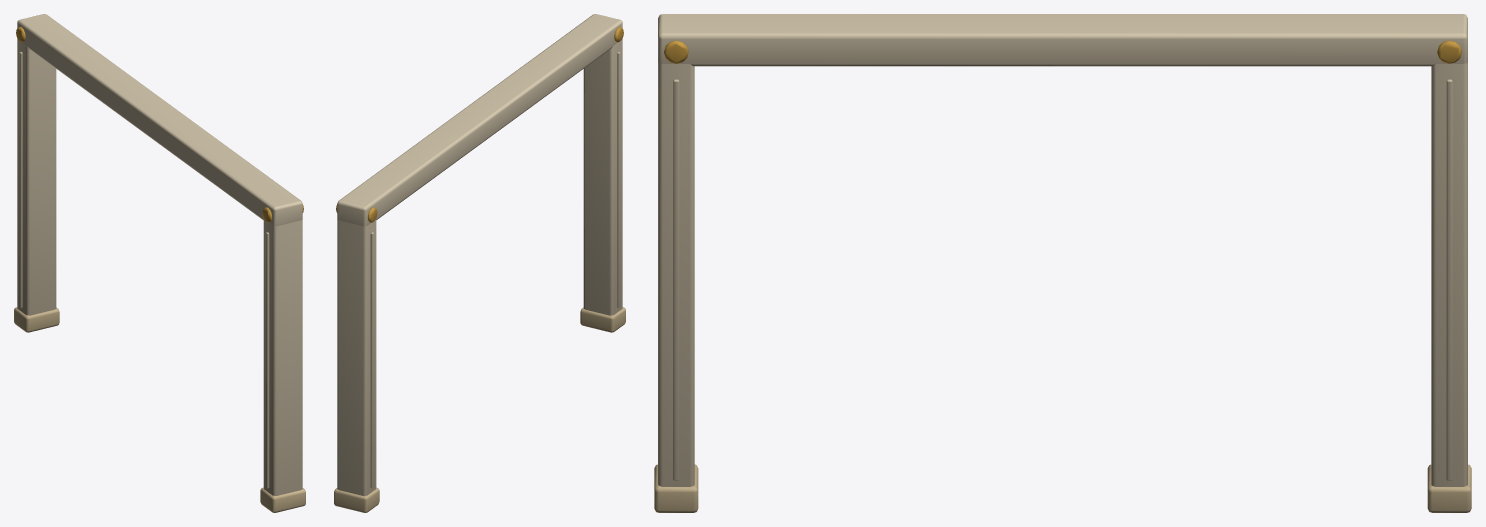
Rendered from SM_Door_Stage4_Frame.fbx.
3 views of the same model, side by side, from view 1: azimuth 30°, elevation 25°; view 2: azimuth 150°, elevation 25°; view 3: azimuth 270°, elevation 25° (orthographic). The views are drawn at different scales.
Visible parts, largest first — view 1: SM_Door_Stage4_Frame; view 2: SM_Door_Stage4_Frame; view 3: SM_Door_Stage4_Frame.
Boxes of the visible parts, x1=… form: SM_Door_Stage4_Frame: x1=14, y1=14, x2=305, y2=512; SM_Door_Stage4_Frame: x1=334, y1=14, x2=625, y2=512; SM_Door_Stage4_Frame: x1=654, y1=14, x2=1471, y2=512.
Size of the model in its own units: 52.1 by 430 by 666.
